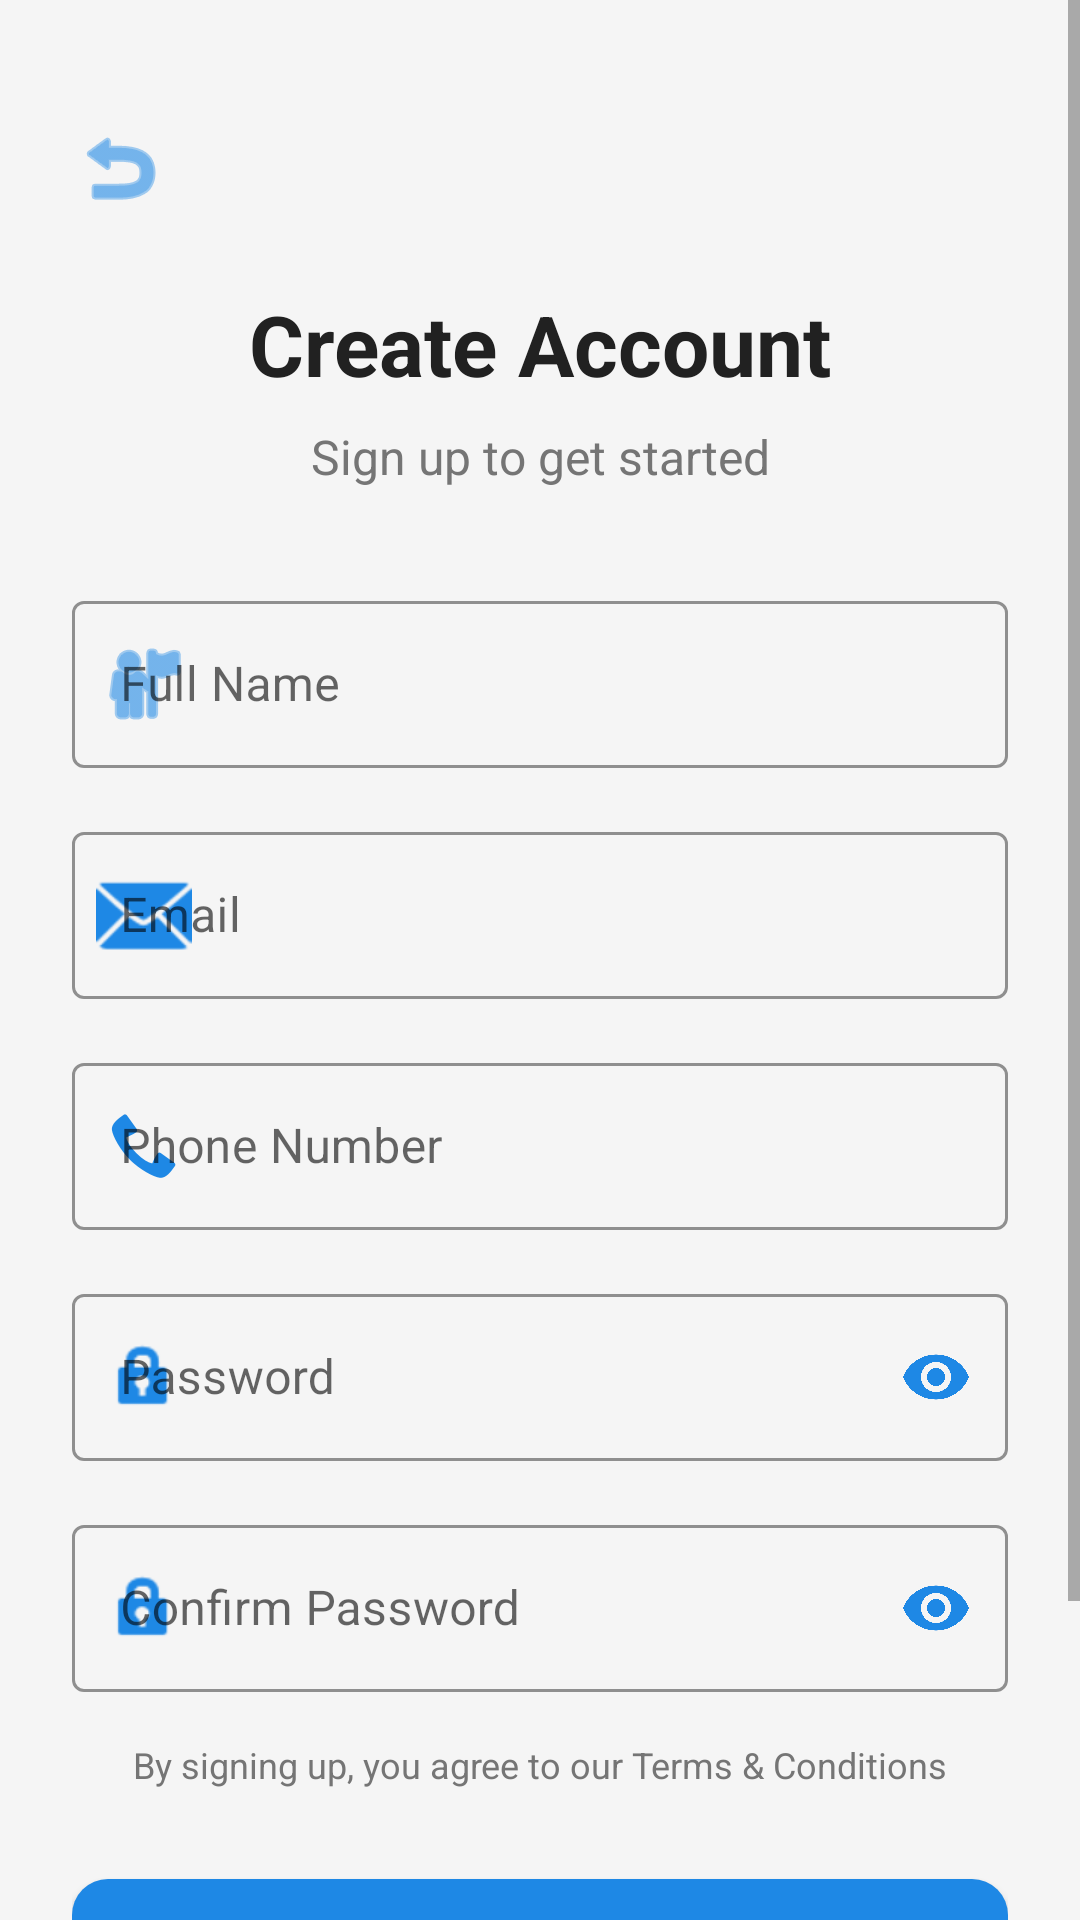

Icon click points for this 1080×1920 phone screenshot, format point (x, y):
Back: point (121, 168)
